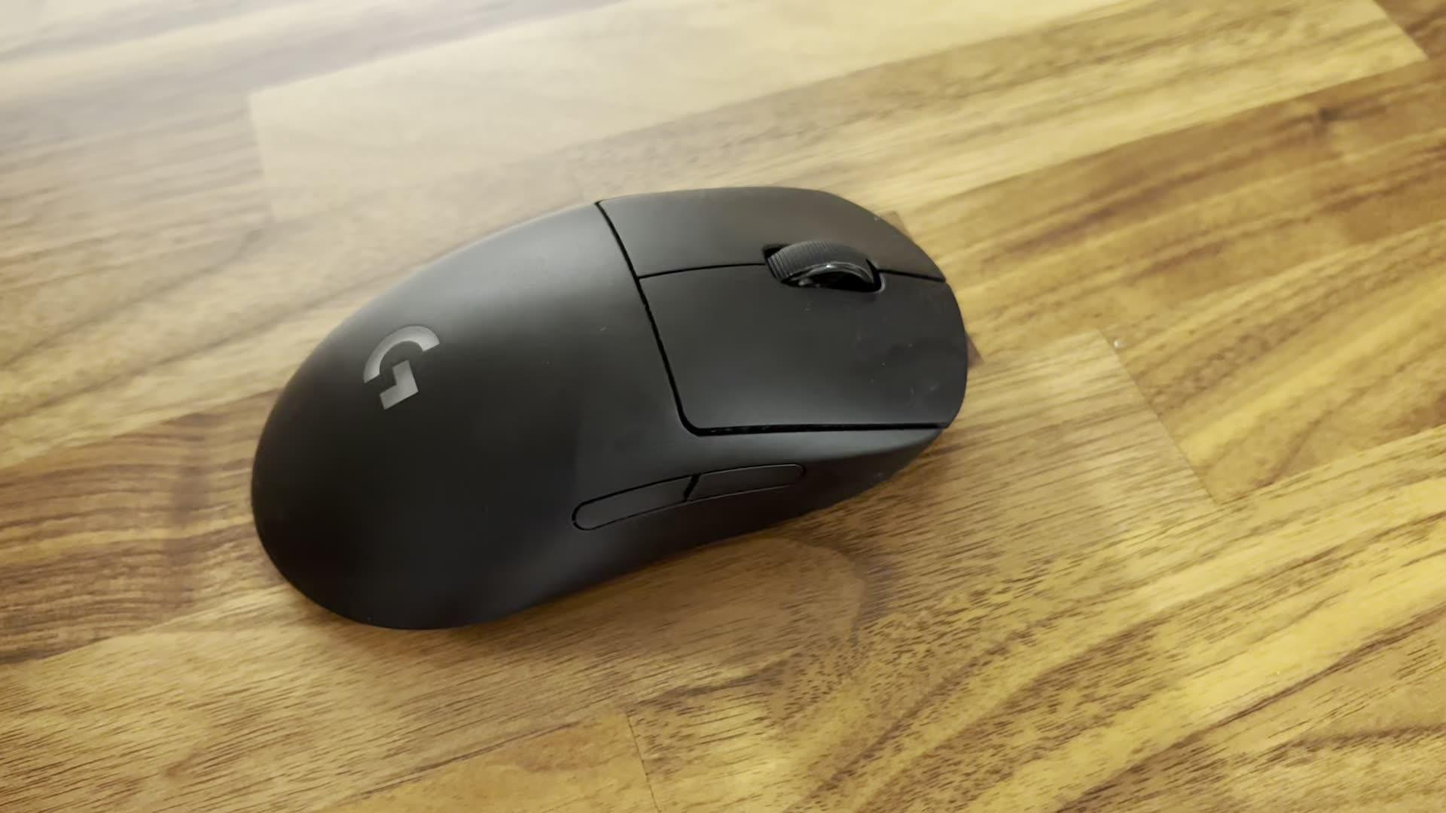mouse: (246, 179, 972, 633)
